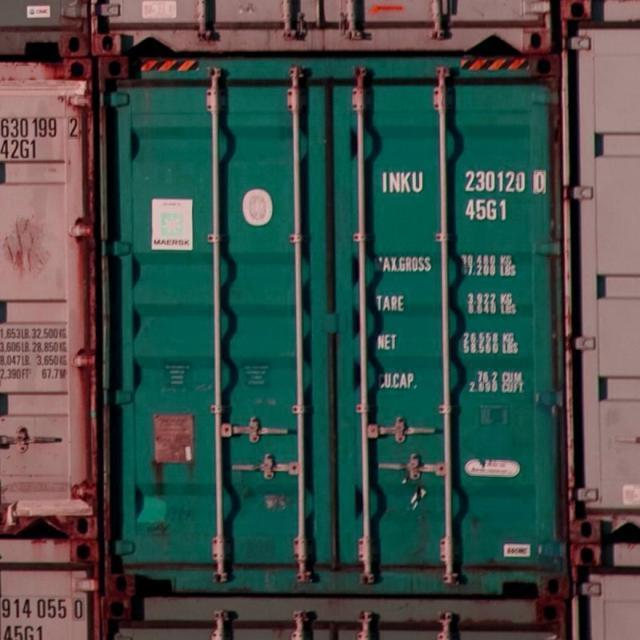ISO: (466, 199, 510, 222)
container_number: (380, 170, 550, 192)
